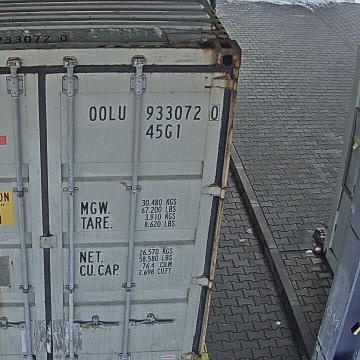serial_id: (89, 106, 218, 121)
